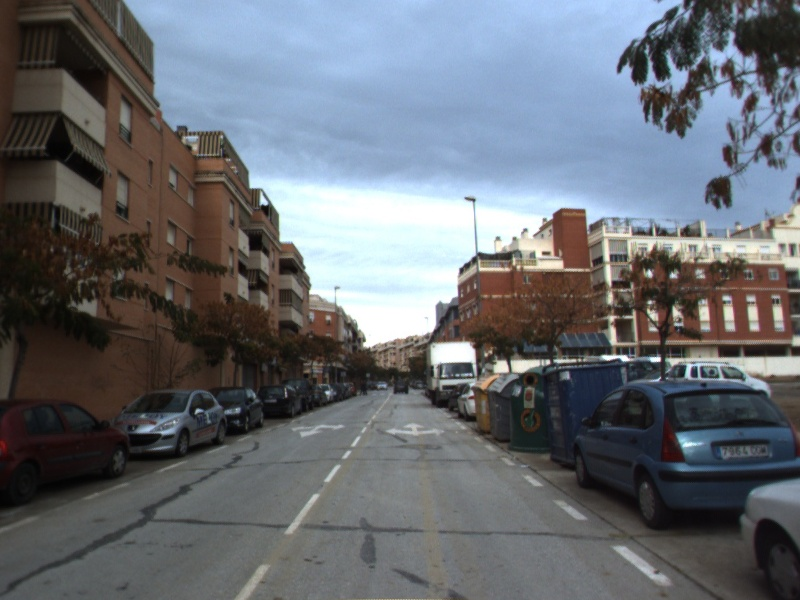STRAIGHT_LEFT_RIGHT: (383, 420, 447, 438)
